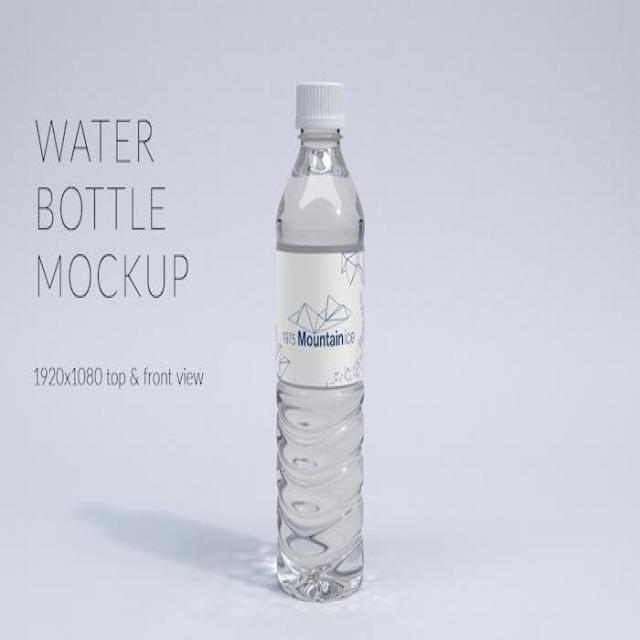bottle: (264, 65, 381, 636)
